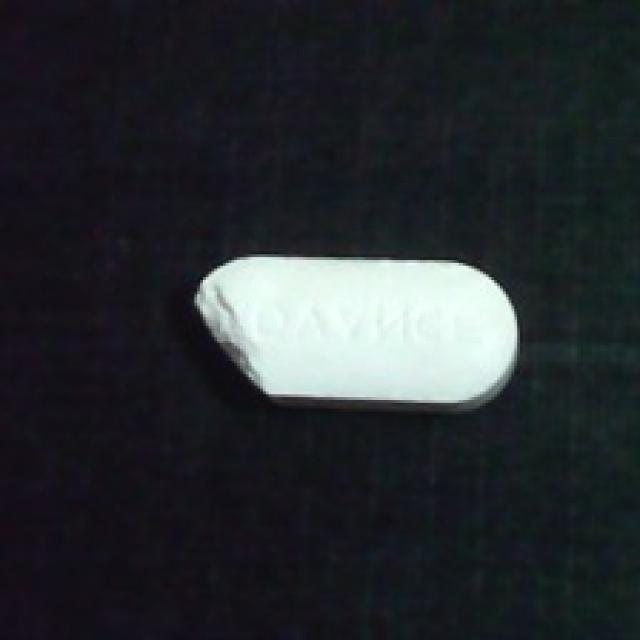defected: (186, 254, 526, 420)
